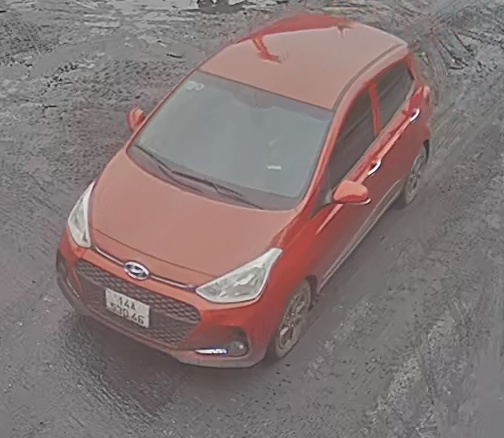vehicle plate: (98, 283, 153, 333)
